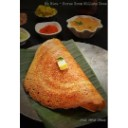dosa: (24, 38, 104, 114)
